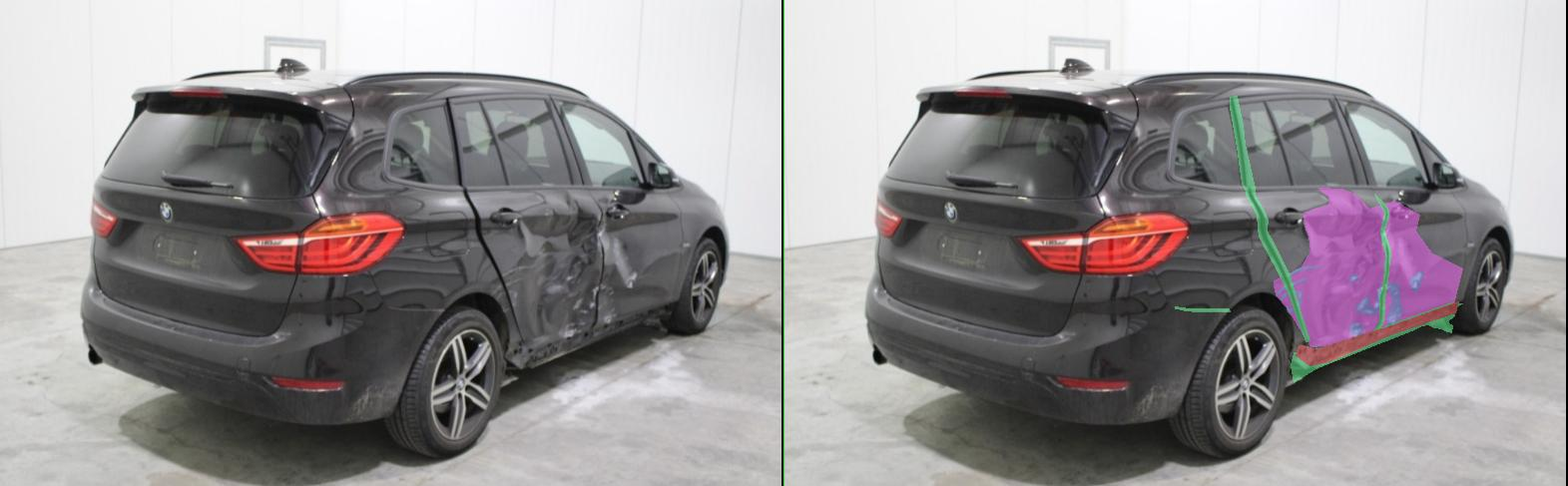Broken part: (891, 96, 1051, 341), (1013, 302, 1356, 382), (1180, 194, 1212, 329), (781, 306, 891, 311)
Dent: (979, 188, 1356, 346)
Missing part: (1023, 301, 1348, 365)
Scratch: (1143, 285, 1198, 314), (1204, 282, 1236, 325), (1005, 265, 1071, 280), (1252, 270, 1276, 291), (1131, 321, 1159, 335), (1017, 290, 1037, 307), (1011, 277, 1045, 286), (983, 284, 1005, 296), (991, 291, 1013, 301), (1131, 273, 1151, 282), (1005, 305, 1023, 313)
